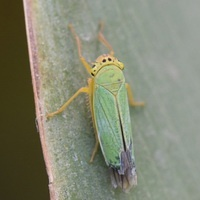insect: (46, 21, 143, 191)
